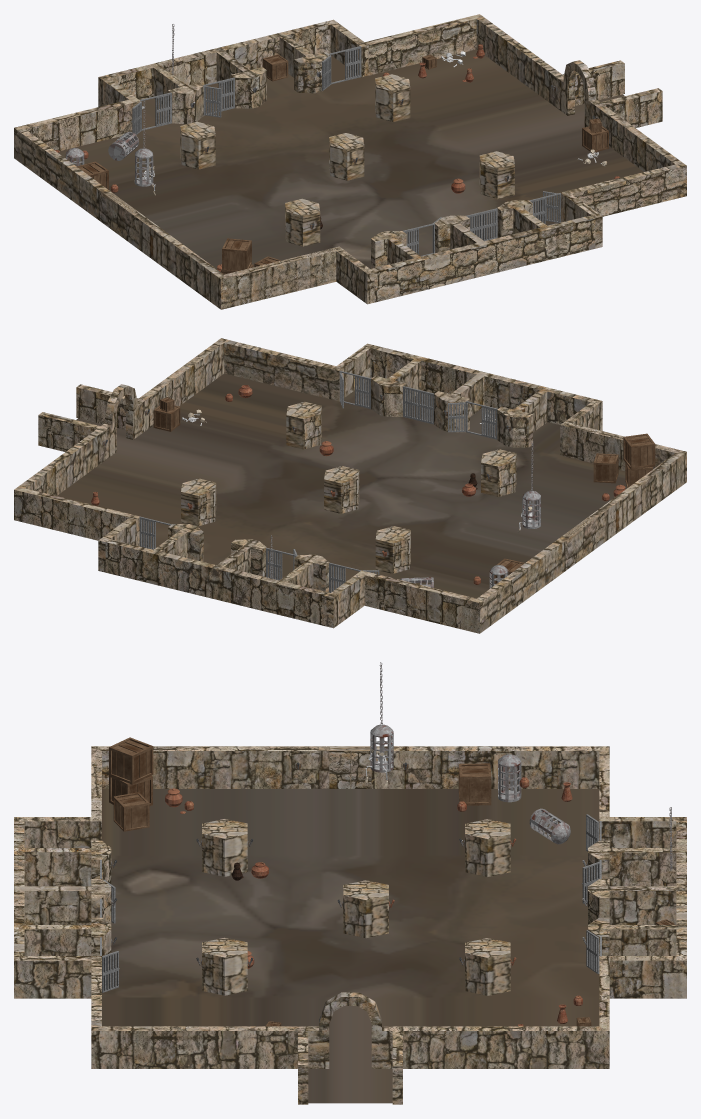
Rendered from room3.glb.
3 renders of one model, top to bottom at view 1: azimuth 30°, elevation 25°; view 2: azimuth 150°, elevation 25°; view 3: azimuth 270°, elevation 25°, orthographic. The views are drawn at different scales.
Parts seen in each view (by area): view 1: sciany.004, sciany.005, sciany.001, sciany.006, sciany.003, sciany.002, sciany.007, kraty_7, Cube.005, kraty_8, kraty_9, kraty_3 (+6 smaller); view 2: sciany.004, sciany.005, sciany.002, sciany.007, sciany.001, sciany.003, sciany.006, kraty_2, Cube.005, kraty, Cube.007, kraty_3 (+5 smaller); view 3: sciany.004, sciany.005, sciany.003, sciany.002, sciany.006, sciany.007, sciany.001, Cube.005, Cube.006, Cube.007, klatka_5, klatka_3 (+3 smaller).
Boxes of the visible parts, <box> form: sciany.004: <box>59,49,643,268</box>; sciany.005: <box>14,14,686,309</box>; sciany.001: <box>285,198,320,246</box>; sciany.006: <box>375,74,410,121</box>; sciany.003: <box>180,121,215,169</box>; sciany.002: <box>479,151,514,198</box>; sciany.007: <box>329,133,364,180</box>; kraty_7: <box>203,77,234,117</box>; Cube.005: <box>222,238,251,272</box>; kraty_8: <box>322,46,361,90</box>; kraty_9: <box>131,92,171,134</box>; kraty_3: <box>529,191,560,225</box>; sciany.004: <box>57,373,626,598</box>; sciany.005: <box>14,338,686,633</box>; sciany.002: <box>286,401,321,449</box>; sciany.007: <box>324,466,359,513</box>; sciany.001: <box>481,449,516,496</box>; sciany.003: <box>375,526,410,573</box>; sciany.006: <box>181,478,216,526</box>; kraty_2: <box>448,401,497,439</box>; Cube.005: <box>623,433,655,469</box>; kraty: <box>403,386,434,424</box>; Cube.007: <box>593,453,618,483</box>; kraty_3: <box>339,371,370,408</box>; sciany.004: <box>102,789,599,1103</box>; sciany.005: <box>14,746,686,1104</box>; sciany.003: <box>465,819,510,876</box>; sciany.002: <box>202,937,247,995</box>; sciany.006: <box>465,938,510,995</box>; sciany.007: <box>343,880,388,938</box>; sciany.001: <box>202,819,247,876</box>; Cube.005: <box>109,737,153,784</box>; Cube.006: <box>458,763,491,805</box>; Cube.007: <box>113,792,149,831</box>; klatka_5: <box>498,754,521,802</box>; klatka_3: <box>370,724,393,772</box>.
Size of the model in its own units: 36 by 7.72 by 32.
12 materials, 10 textured.
